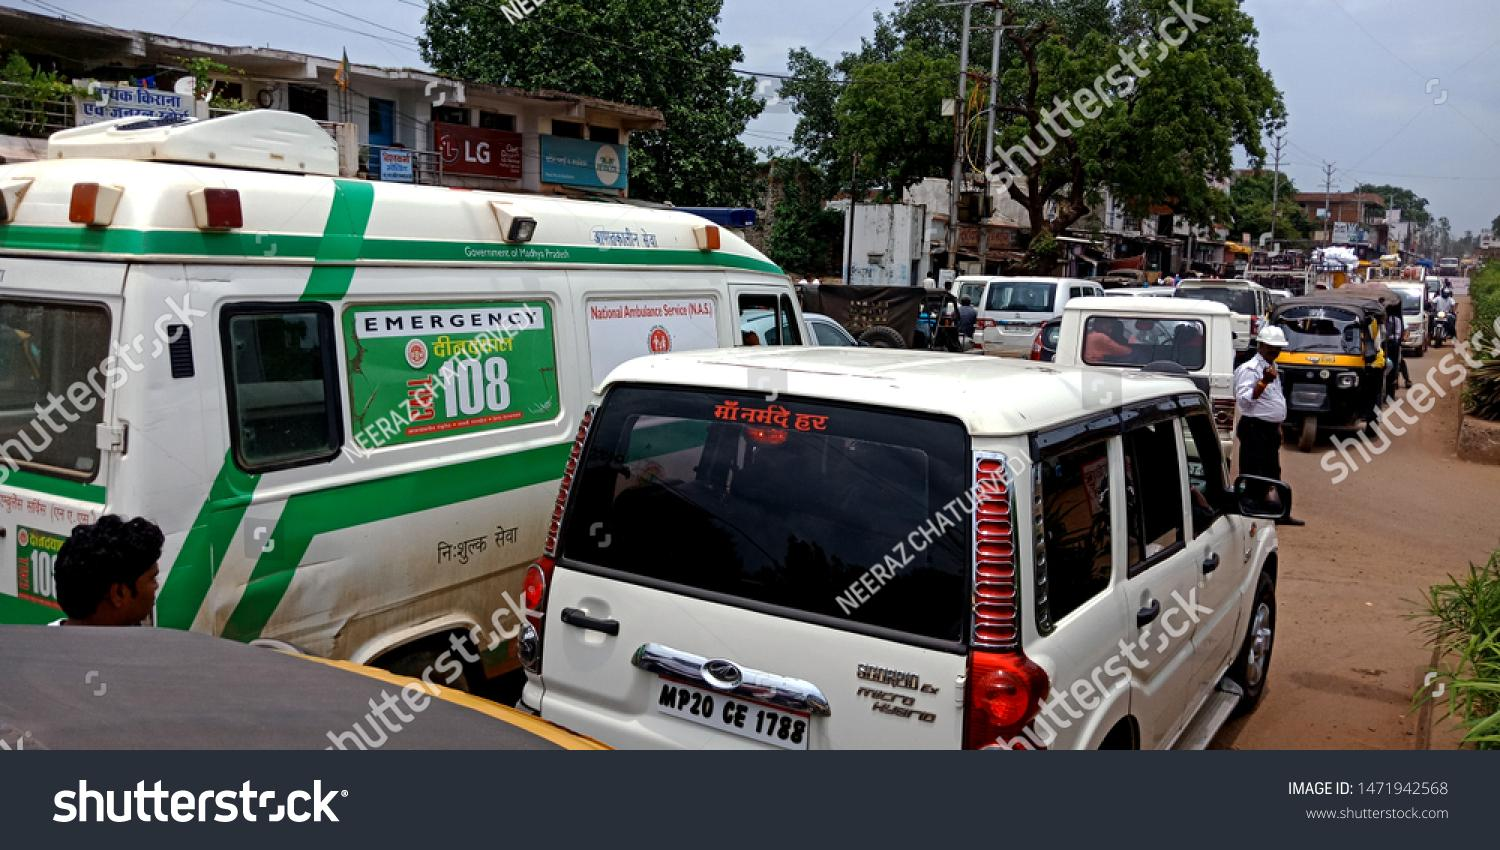ER: (0, 109, 808, 662)
